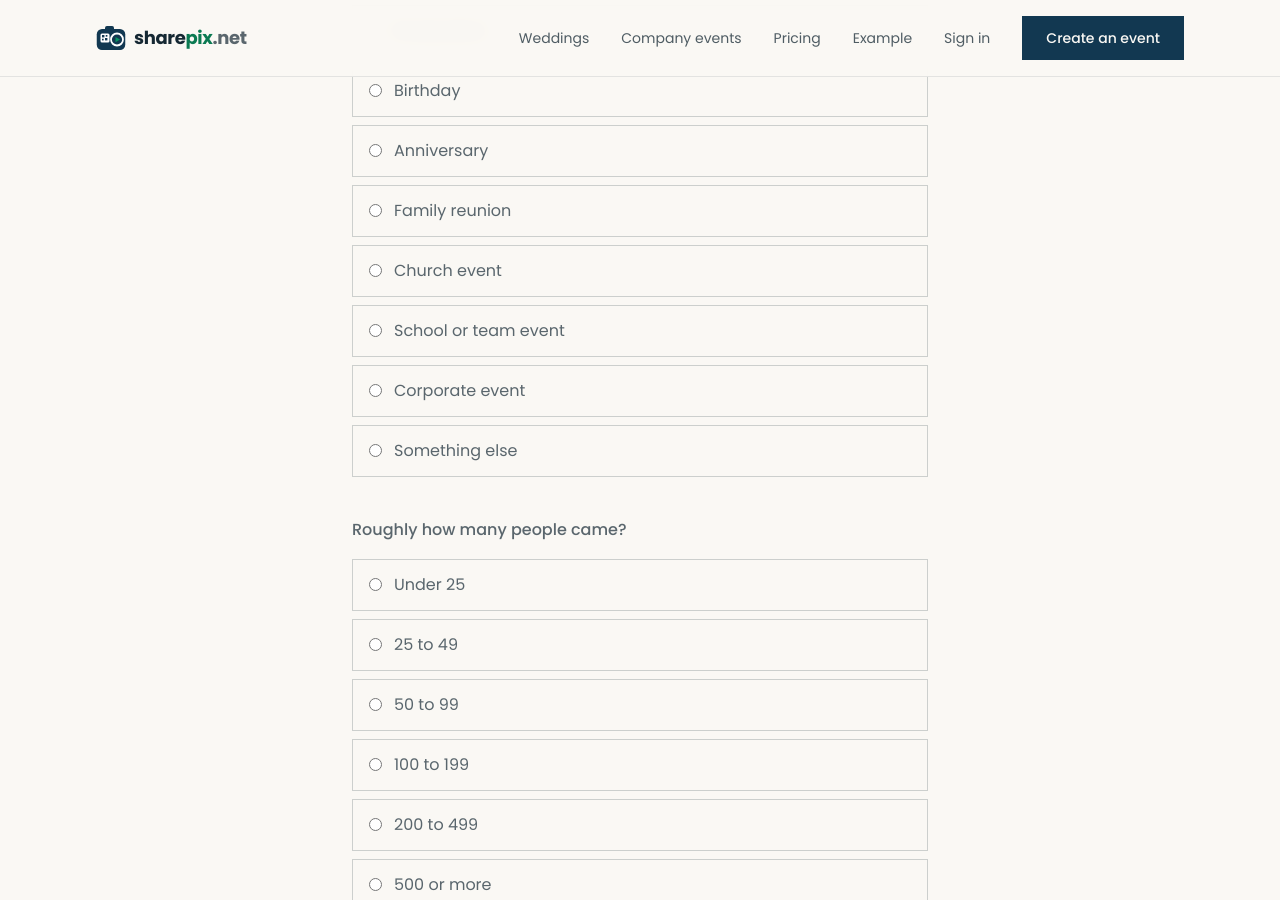
Test: answering › reveals a text box when Other is chosen
(page scrolled)
Expected: the field labelled "tell us which" is not shown
Click the radio button labelled "Something else" at (376, 451), box [369,444,382,457]
(page scrolled)
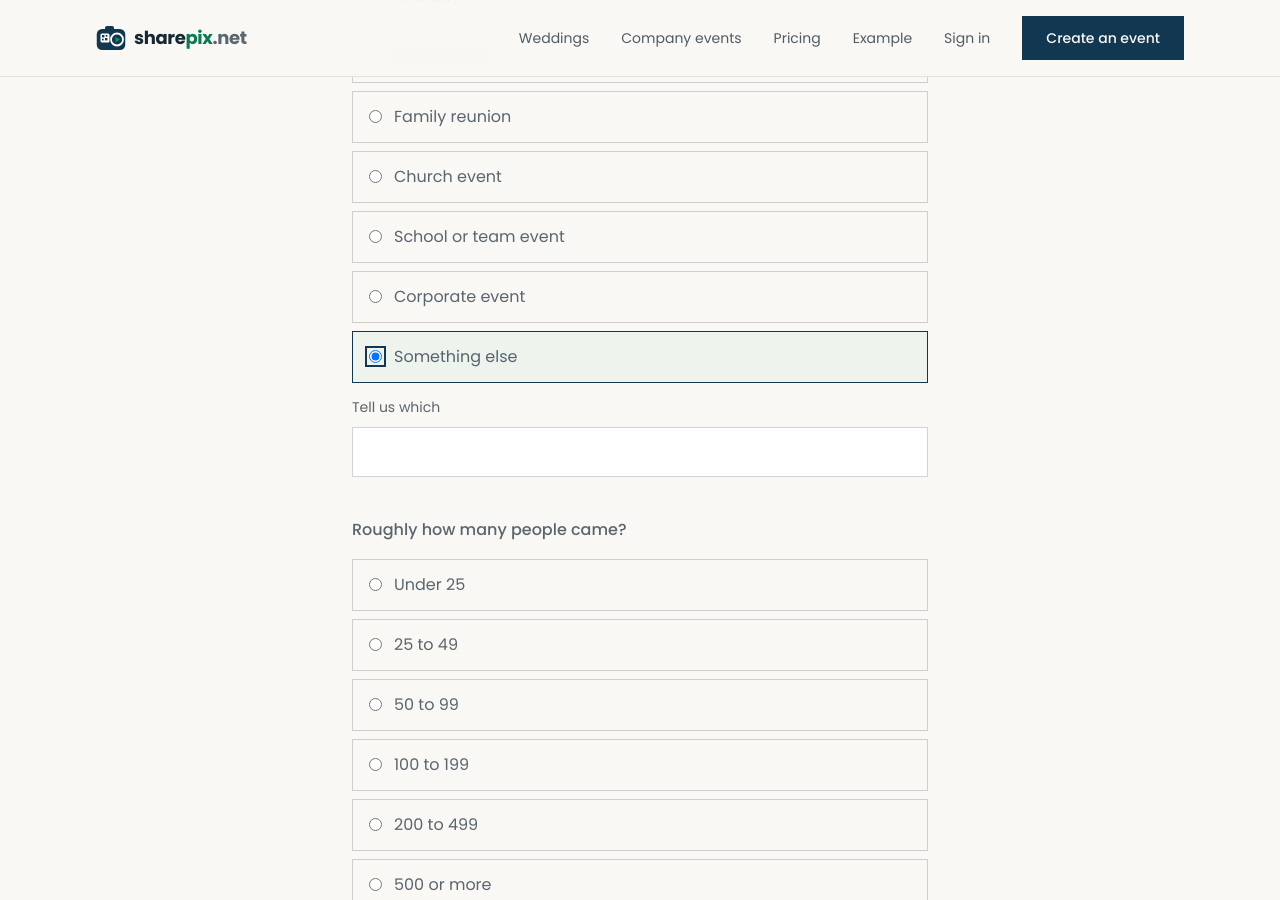
Now the field labelled "Tell us which" is shown, box [352,427,928,477]
